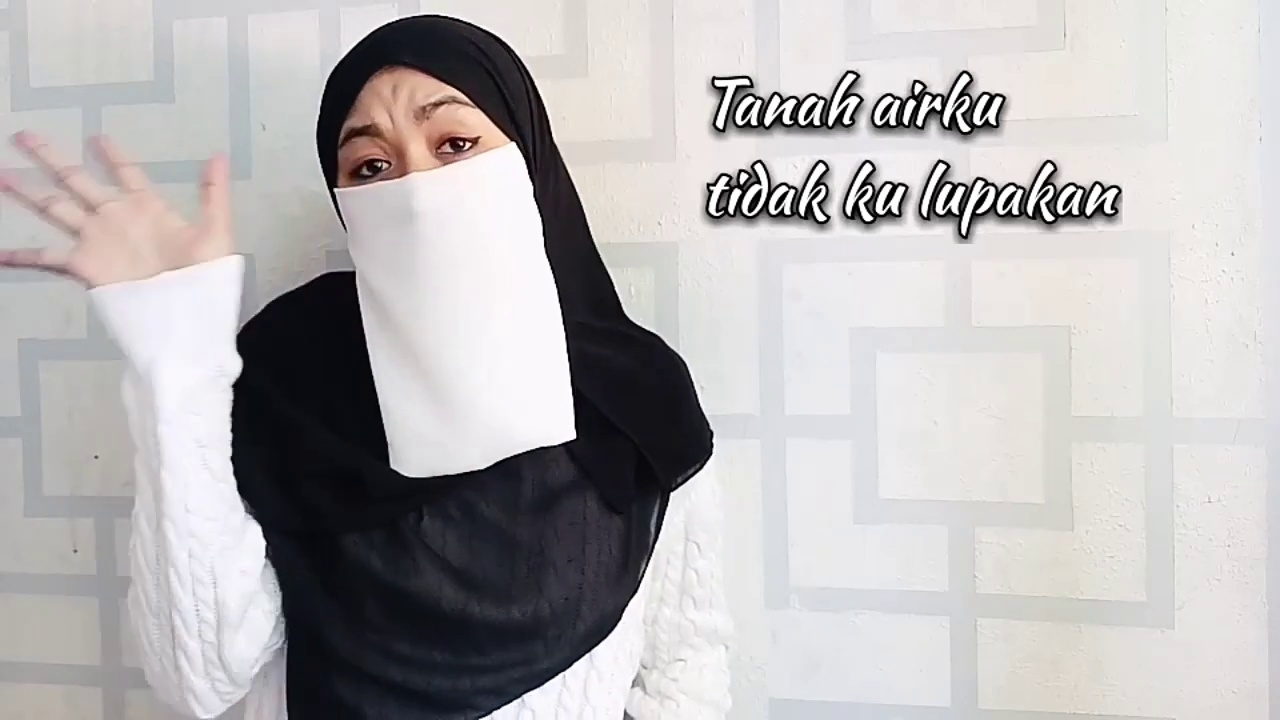TIDAK KU LUPAKAN: (2, 16, 565, 441)
